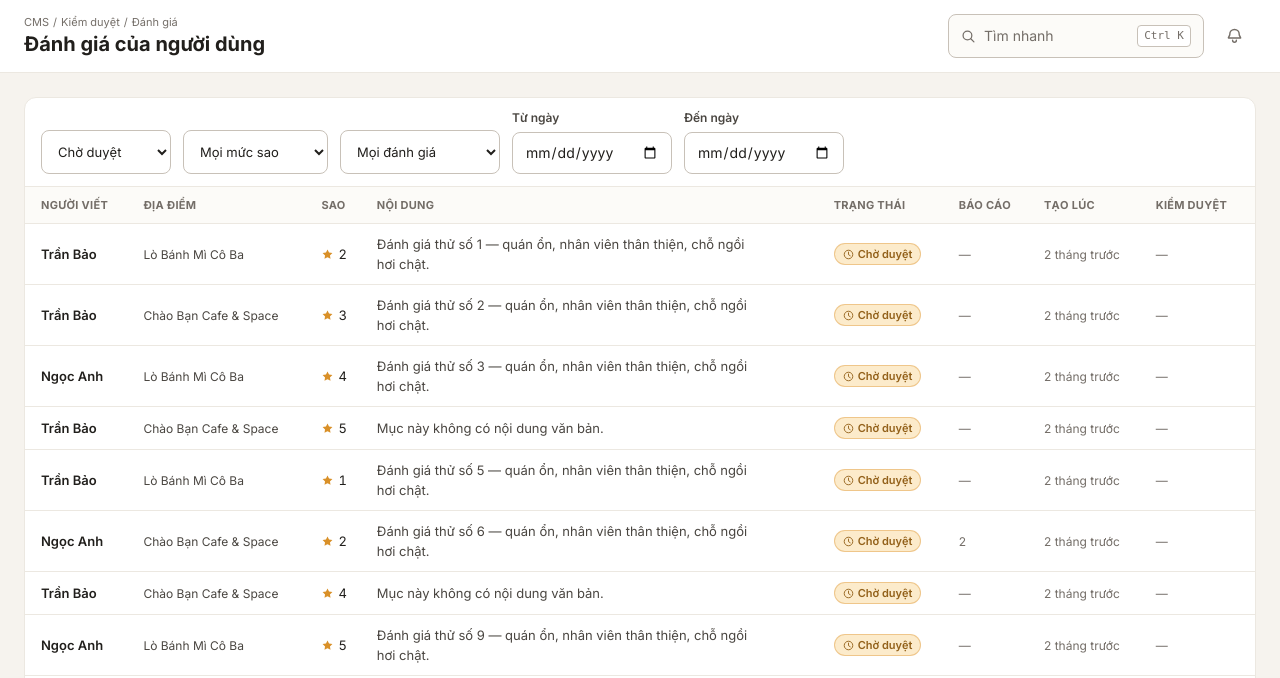
Test: review queue — server-side (CMS-031, finishes CMS-022) › offers emergency hide only for a published review
Select "Đã đăng" in the dropdown named "Trạng thái" at coordinates (106, 152), box 41,130 -> 171,174
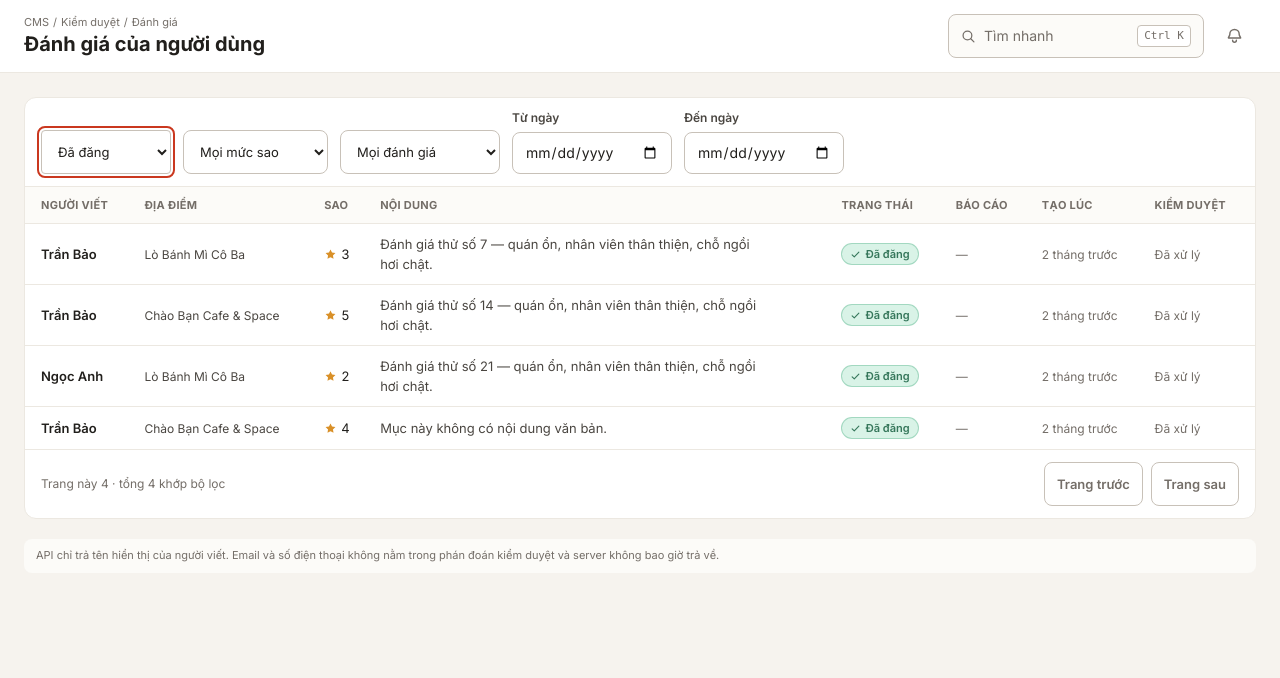
Check: the table is shown, box 25,187 -> 1255,449
Click the 2nd row at coordinates (640, 254), box 25,224 -> 1255,284
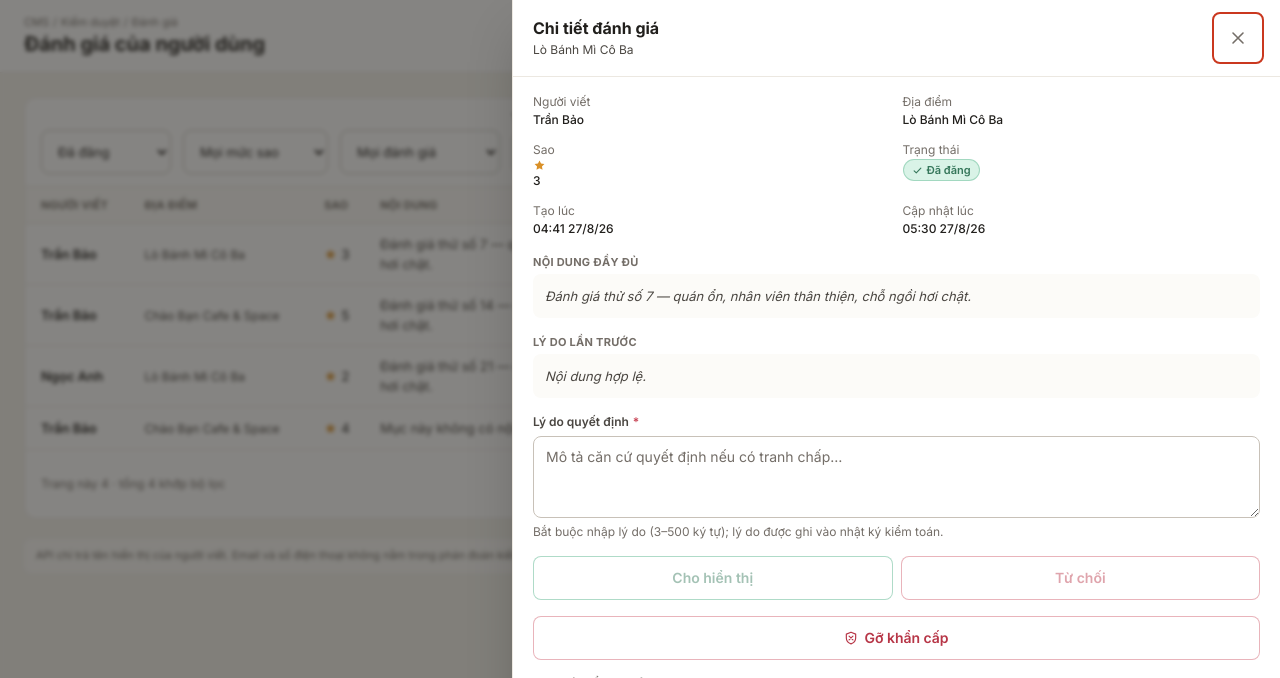
Check: the button "Gỡ khẩn cấp" is shown, box 533,616 -> 1260,660
